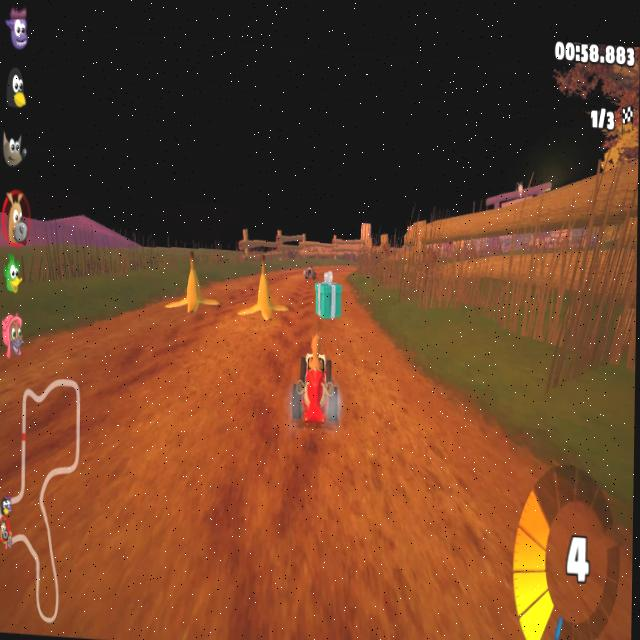bonus: (311, 280, 346, 318)
enemy_kart: (303, 262, 319, 280)
obstacle: (240, 256, 287, 326), (171, 252, 217, 318)
player_kart: (287, 331, 345, 429)
track: (0, 426, 632, 640), (0, 351, 289, 447), (95, 320, 290, 370), (346, 346, 426, 460), (421, 398, 518, 461), (218, 269, 241, 326), (289, 272, 310, 327), (48, 336, 99, 356), (349, 323, 390, 344), (332, 264, 358, 274)
